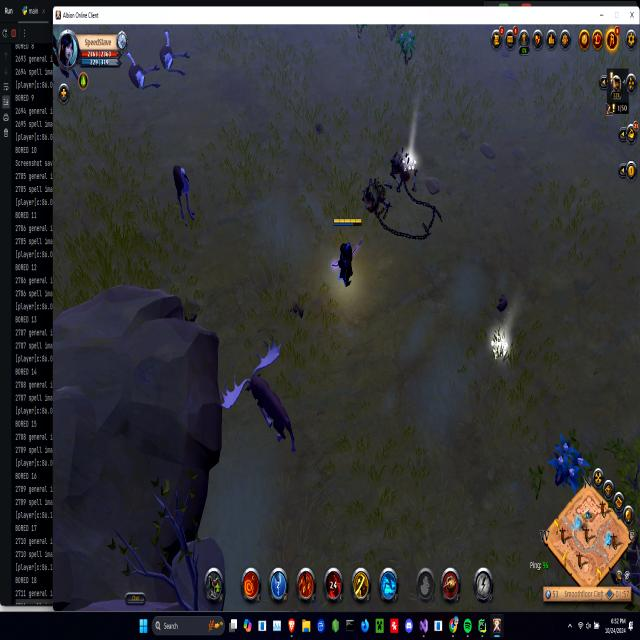hide: (548, 428, 587, 496), (396, 26, 418, 68)
mob: (124, 49, 164, 98), (156, 26, 192, 78)
ore: (220, 339, 304, 467), (168, 157, 200, 230)
red: (329, 213, 364, 292)
